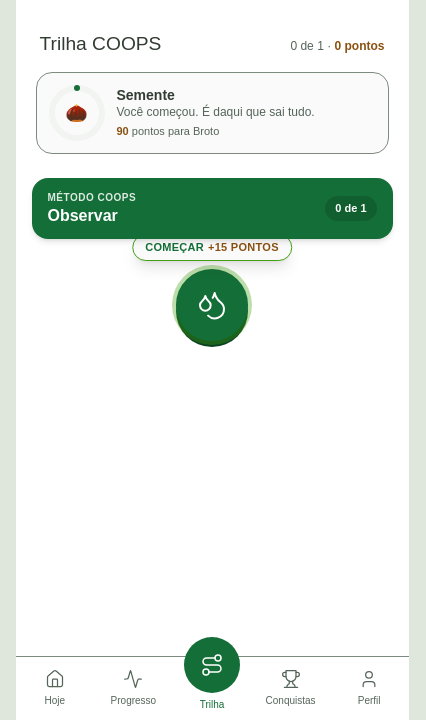
it: Trilha — clicar na colheita atual › atualiza a colheita depois de responder
Click the button named "Para onde o dinheiro foi".
click(212, 305)  # box [176, 269, 248, 341]
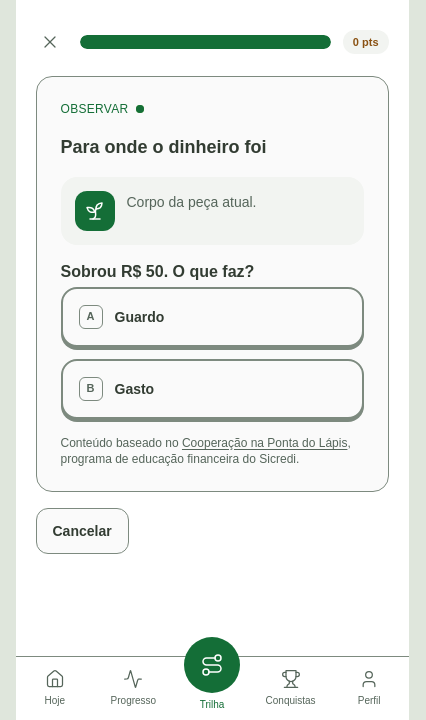
Click the button "A Guardo".
click(139, 317)  # box [60, 287, 364, 347]
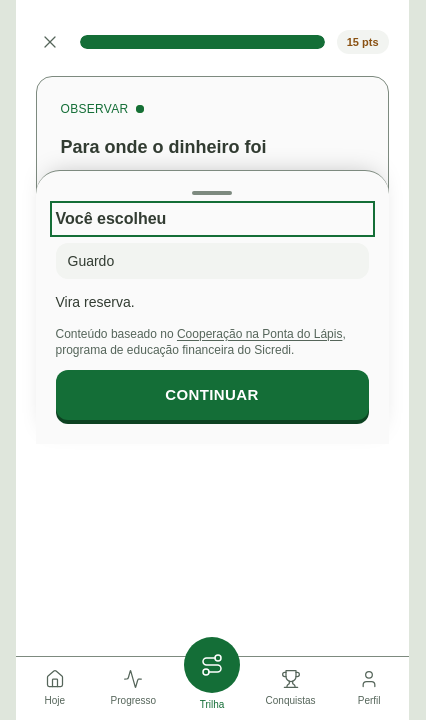
Check: the text "Vira reserva." is shown, box [56, 294, 135, 310]
Click the button "Continuar".
click(212, 395)  # box [56, 370, 368, 420]
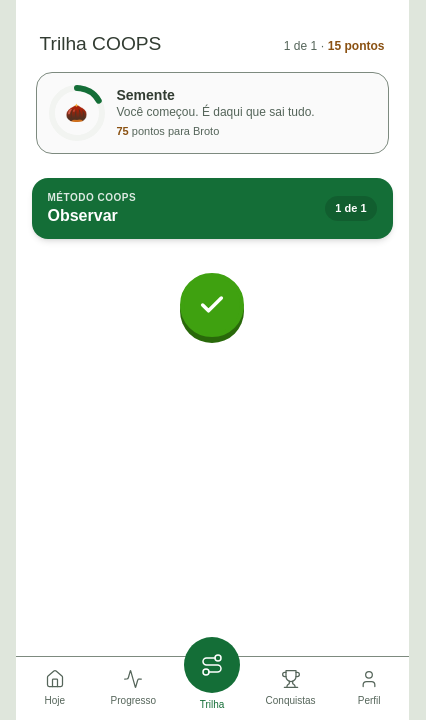
Check: the button named "Concluída" is shown, box [180, 273, 244, 337]
